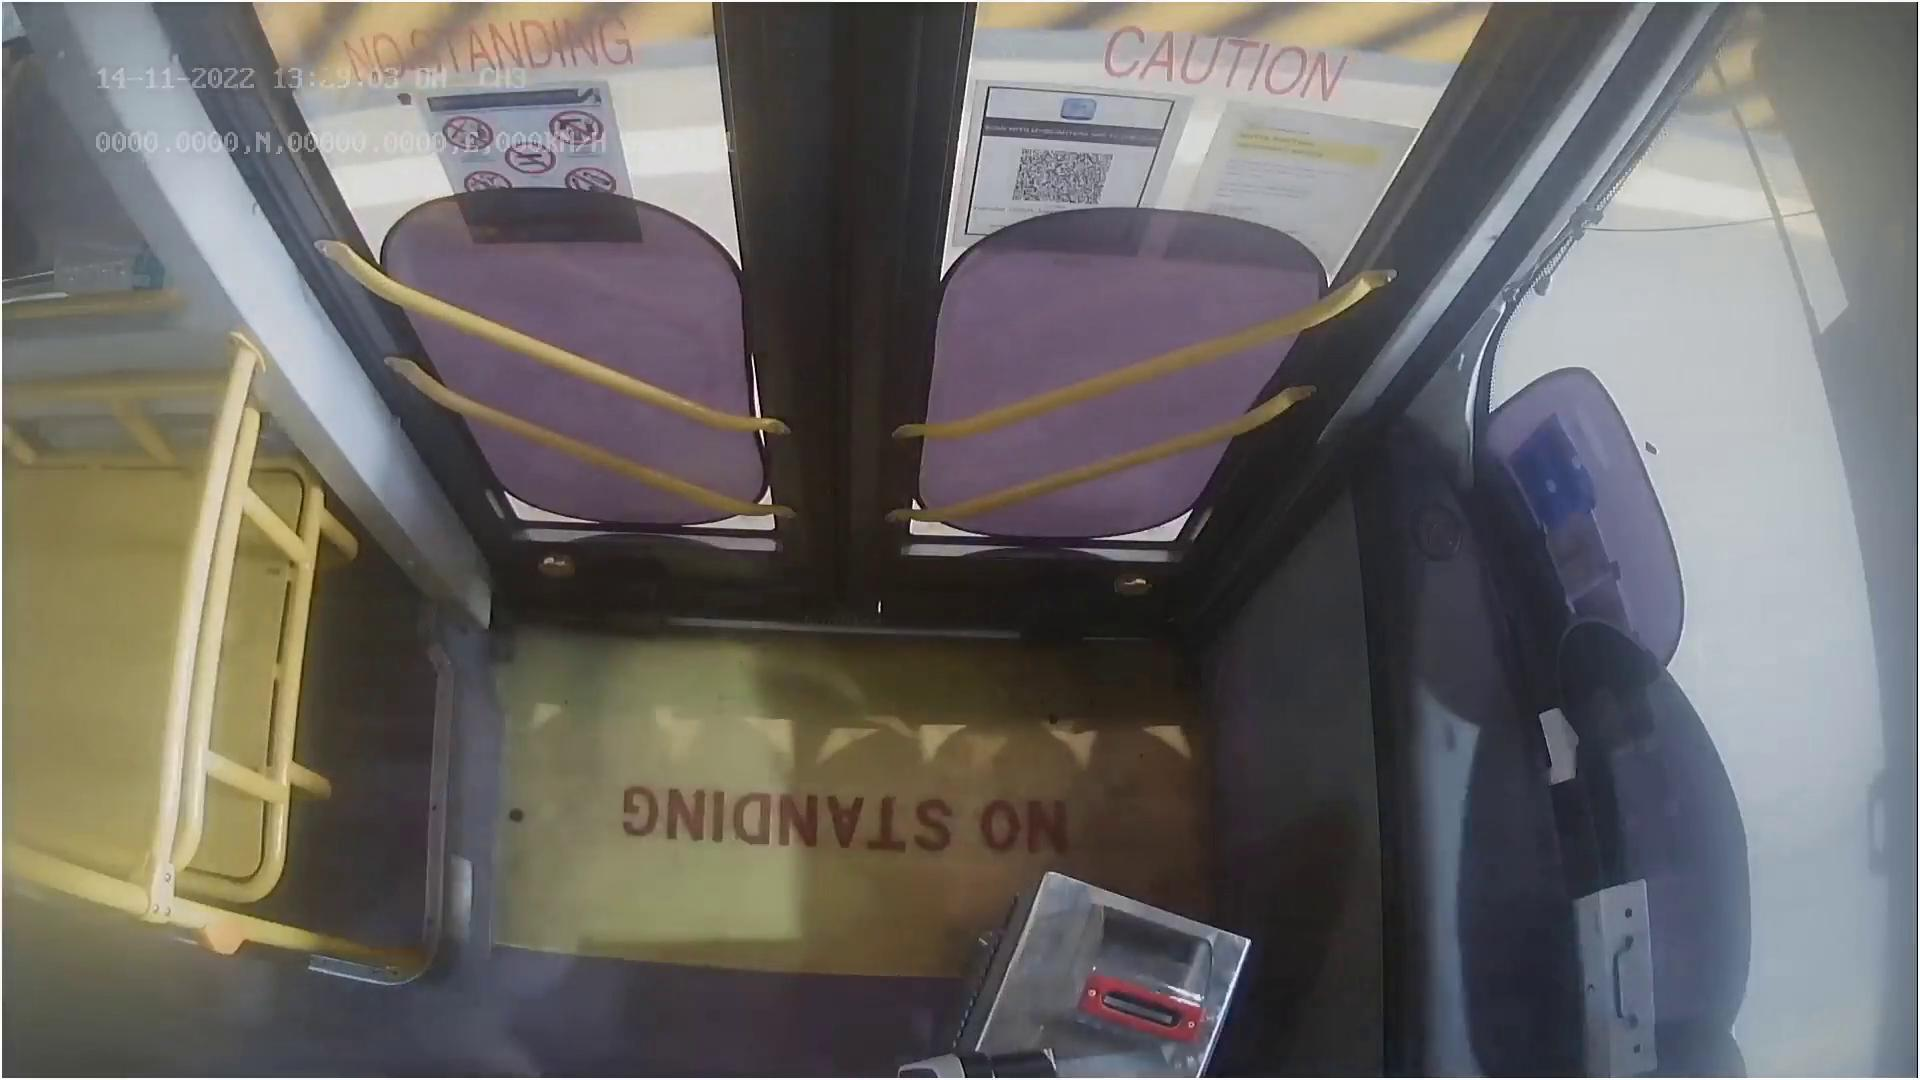close: (285, 0, 1441, 169)
